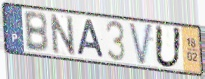3: (105, 19, 127, 64)
A: (75, 18, 106, 60)
B: (22, 11, 50, 54)
N: (48, 12, 77, 57)
U: (153, 23, 183, 70)
V: (128, 21, 154, 68)
